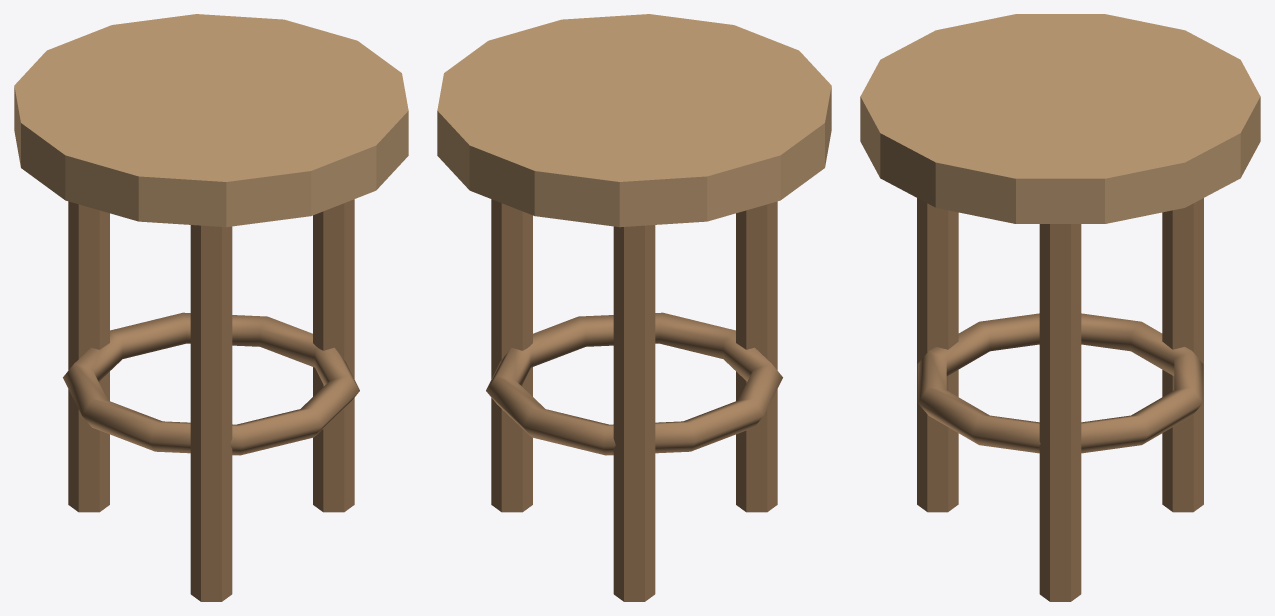
Rendered from Stool.fbx.
3 views of the same model, side by side, from view 1: azimuth 30°, elevation 25°; view 2: azimuth 150°, elevation 25°; view 3: azimuth 270°, elevation 25° (orthographic).
Parts seen in each view (by area): view 1: Stool; view 2: Stool; view 3: Stool.
Part boxes in pixels (box(x1,y1,x2,y2)): Stool: box(14, 14, 408, 601); Stool: box(437, 14, 831, 601); Stool: box(860, 14, 1260, 601).
Bounding box in the file's own units: 46.8 × 58 × 48.
